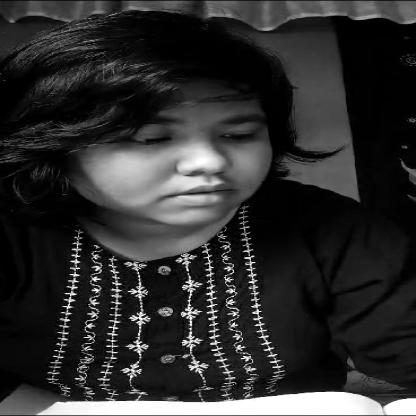Distracted: (24, 40, 302, 244)
